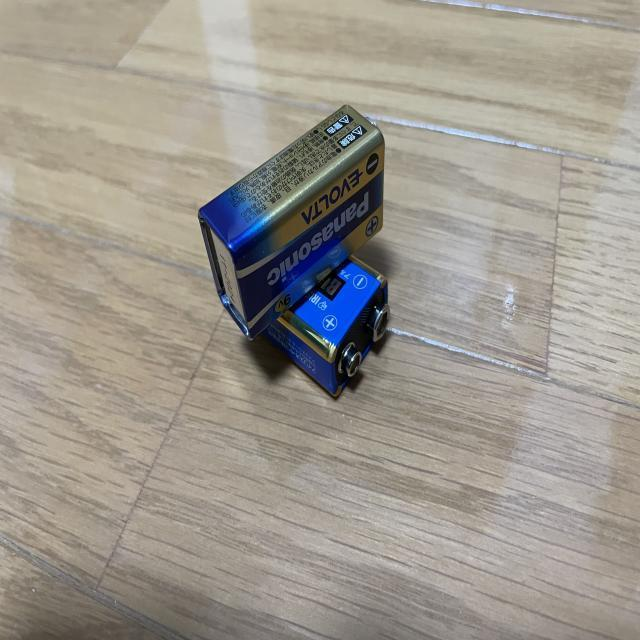9V: (197, 105, 385, 344), (265, 252, 392, 398)
